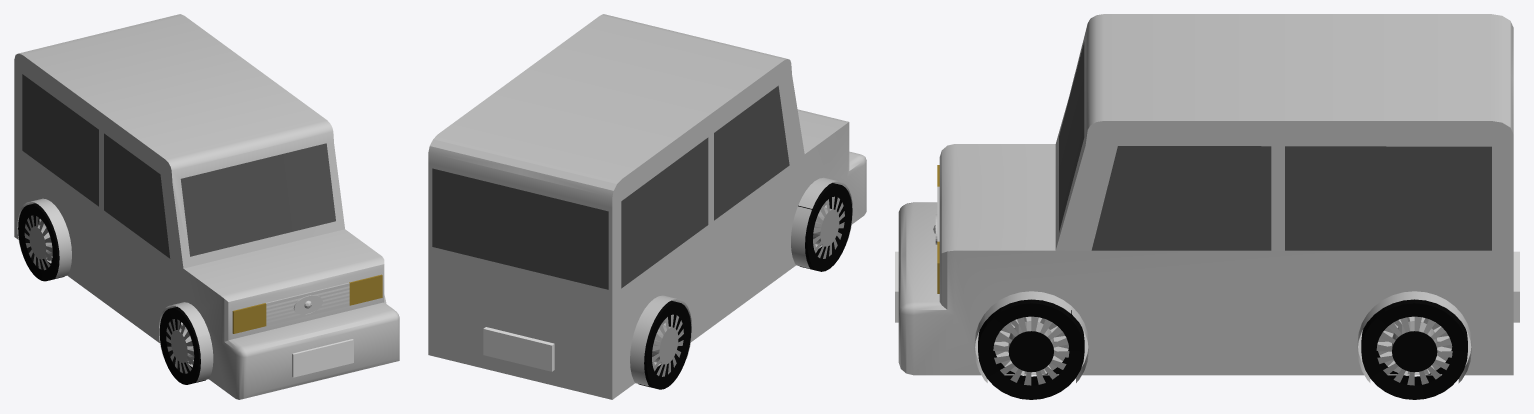
The model's file is npcCar1.fbx.
3 views of the same model, side by side, from view 1: azimuth 30°, elevation 25°; view 2: azimuth 150°, elevation 25°; view 3: azimuth 270°, elevation 25° (orthographic). The views are drawn at different scales.
Parts seen in each view (by area): view 1: Car_body, headlights, Wheel_BR, Wheel_FR, licencePlate_F; view 2: Car_body, Wheel_FR, Wheel_BR, licencePlate_B; view 3: Car_body, Wheel_FL, WheeL_BL.
Part boxes in pixels (left/top/right/bottom): Car_body: left=14, top=14, right=399, bottom=399; headlights: left=232, top=274, right=382, bottom=333; Wheel_BR: left=18, top=203, right=64, bottom=281; Wheel_FR: left=159, top=306, right=205, bottom=384; licencePlate_F: left=292, top=339, right=353, bottom=377; Car_body: left=428, top=14, right=866, bottom=399; Wheel_FR: left=798, top=183, right=852, bottom=271; Wheel_BR: left=638, top=300, right=691, bottom=389; licencePlate_B: left=483, top=327, right=554, bottom=371; Car_body: left=898, top=14, right=1513, bottom=383; Wheel_FL: left=978, top=299, right=1084, bottom=399; WheeL_BL: left=1361, top=299, right=1467, bottom=399.
Size of the model in its own units: 270 by 274 by 575.
